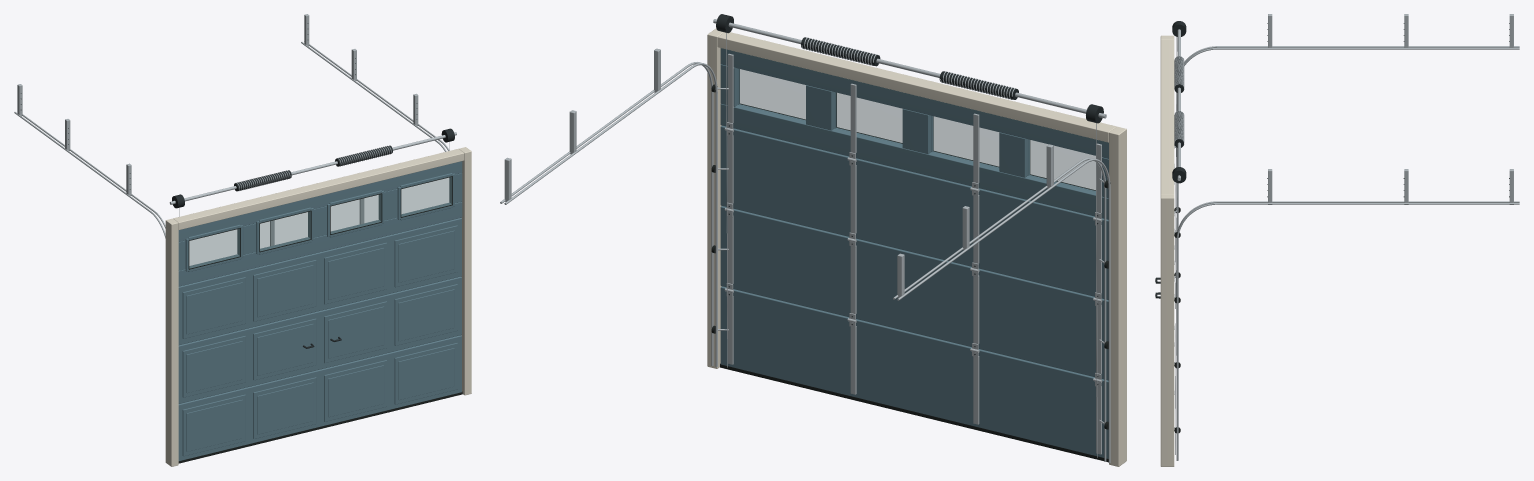
Rendered from sectional-garage-door.glb.
3 renders of one model, left to right at view 1: azimuth 30°, elevation 25°; view 2: azimuth 150°, elevation 25°; view 3: azimuth 270°, elevation 25°, orthographic. The views are drawn at different scales.
Parts seen in each view (by area): view 1: sectional-garage-door authored assembly; view 2: sectional-garage-door authored assembly; view 3: sectional-garage-door authored assembly.
Part boxes in pixels (box(x1,y1,x2,y2)): sectional-garage-door authored assembly: box(14, 14, 471, 466); sectional-garage-door authored assembly: box(500, 14, 1126, 466); sectional-garage-door authored assembly: box(1155, 14, 1519, 466).
Bounding box in the file's own units: 2.85 × 2.4 × 2.7.
